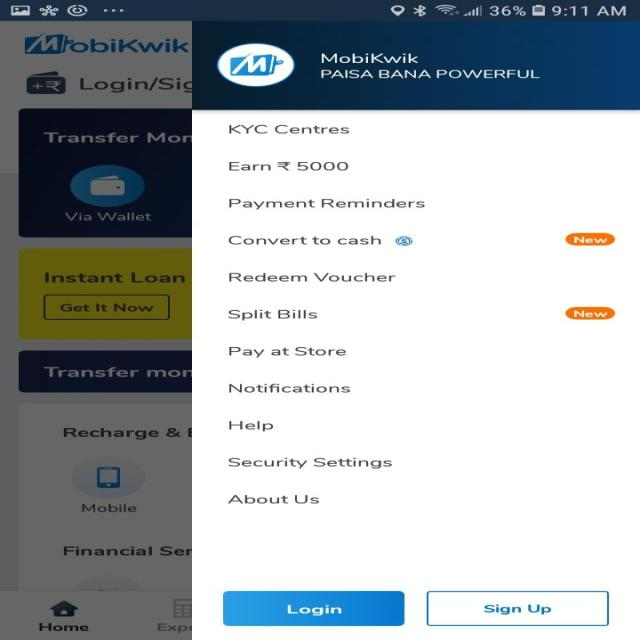Drawer: (191, 21, 639, 639)
Icon: (394, 235, 412, 246)
Image: (216, 42, 296, 88)
Text: (228, 198, 424, 210), (320, 70, 540, 78), (226, 458, 392, 468), (228, 272, 396, 281), (228, 347, 346, 358), (228, 236, 382, 244), (228, 382, 350, 392), (228, 161, 348, 171), (228, 125, 349, 134), (228, 309, 318, 320), (321, 53, 418, 63), (226, 494, 320, 504), (228, 420, 273, 431)
TextButton: (426, 590, 609, 626), (222, 590, 404, 625), (564, 306, 616, 320), (564, 232, 616, 245)
